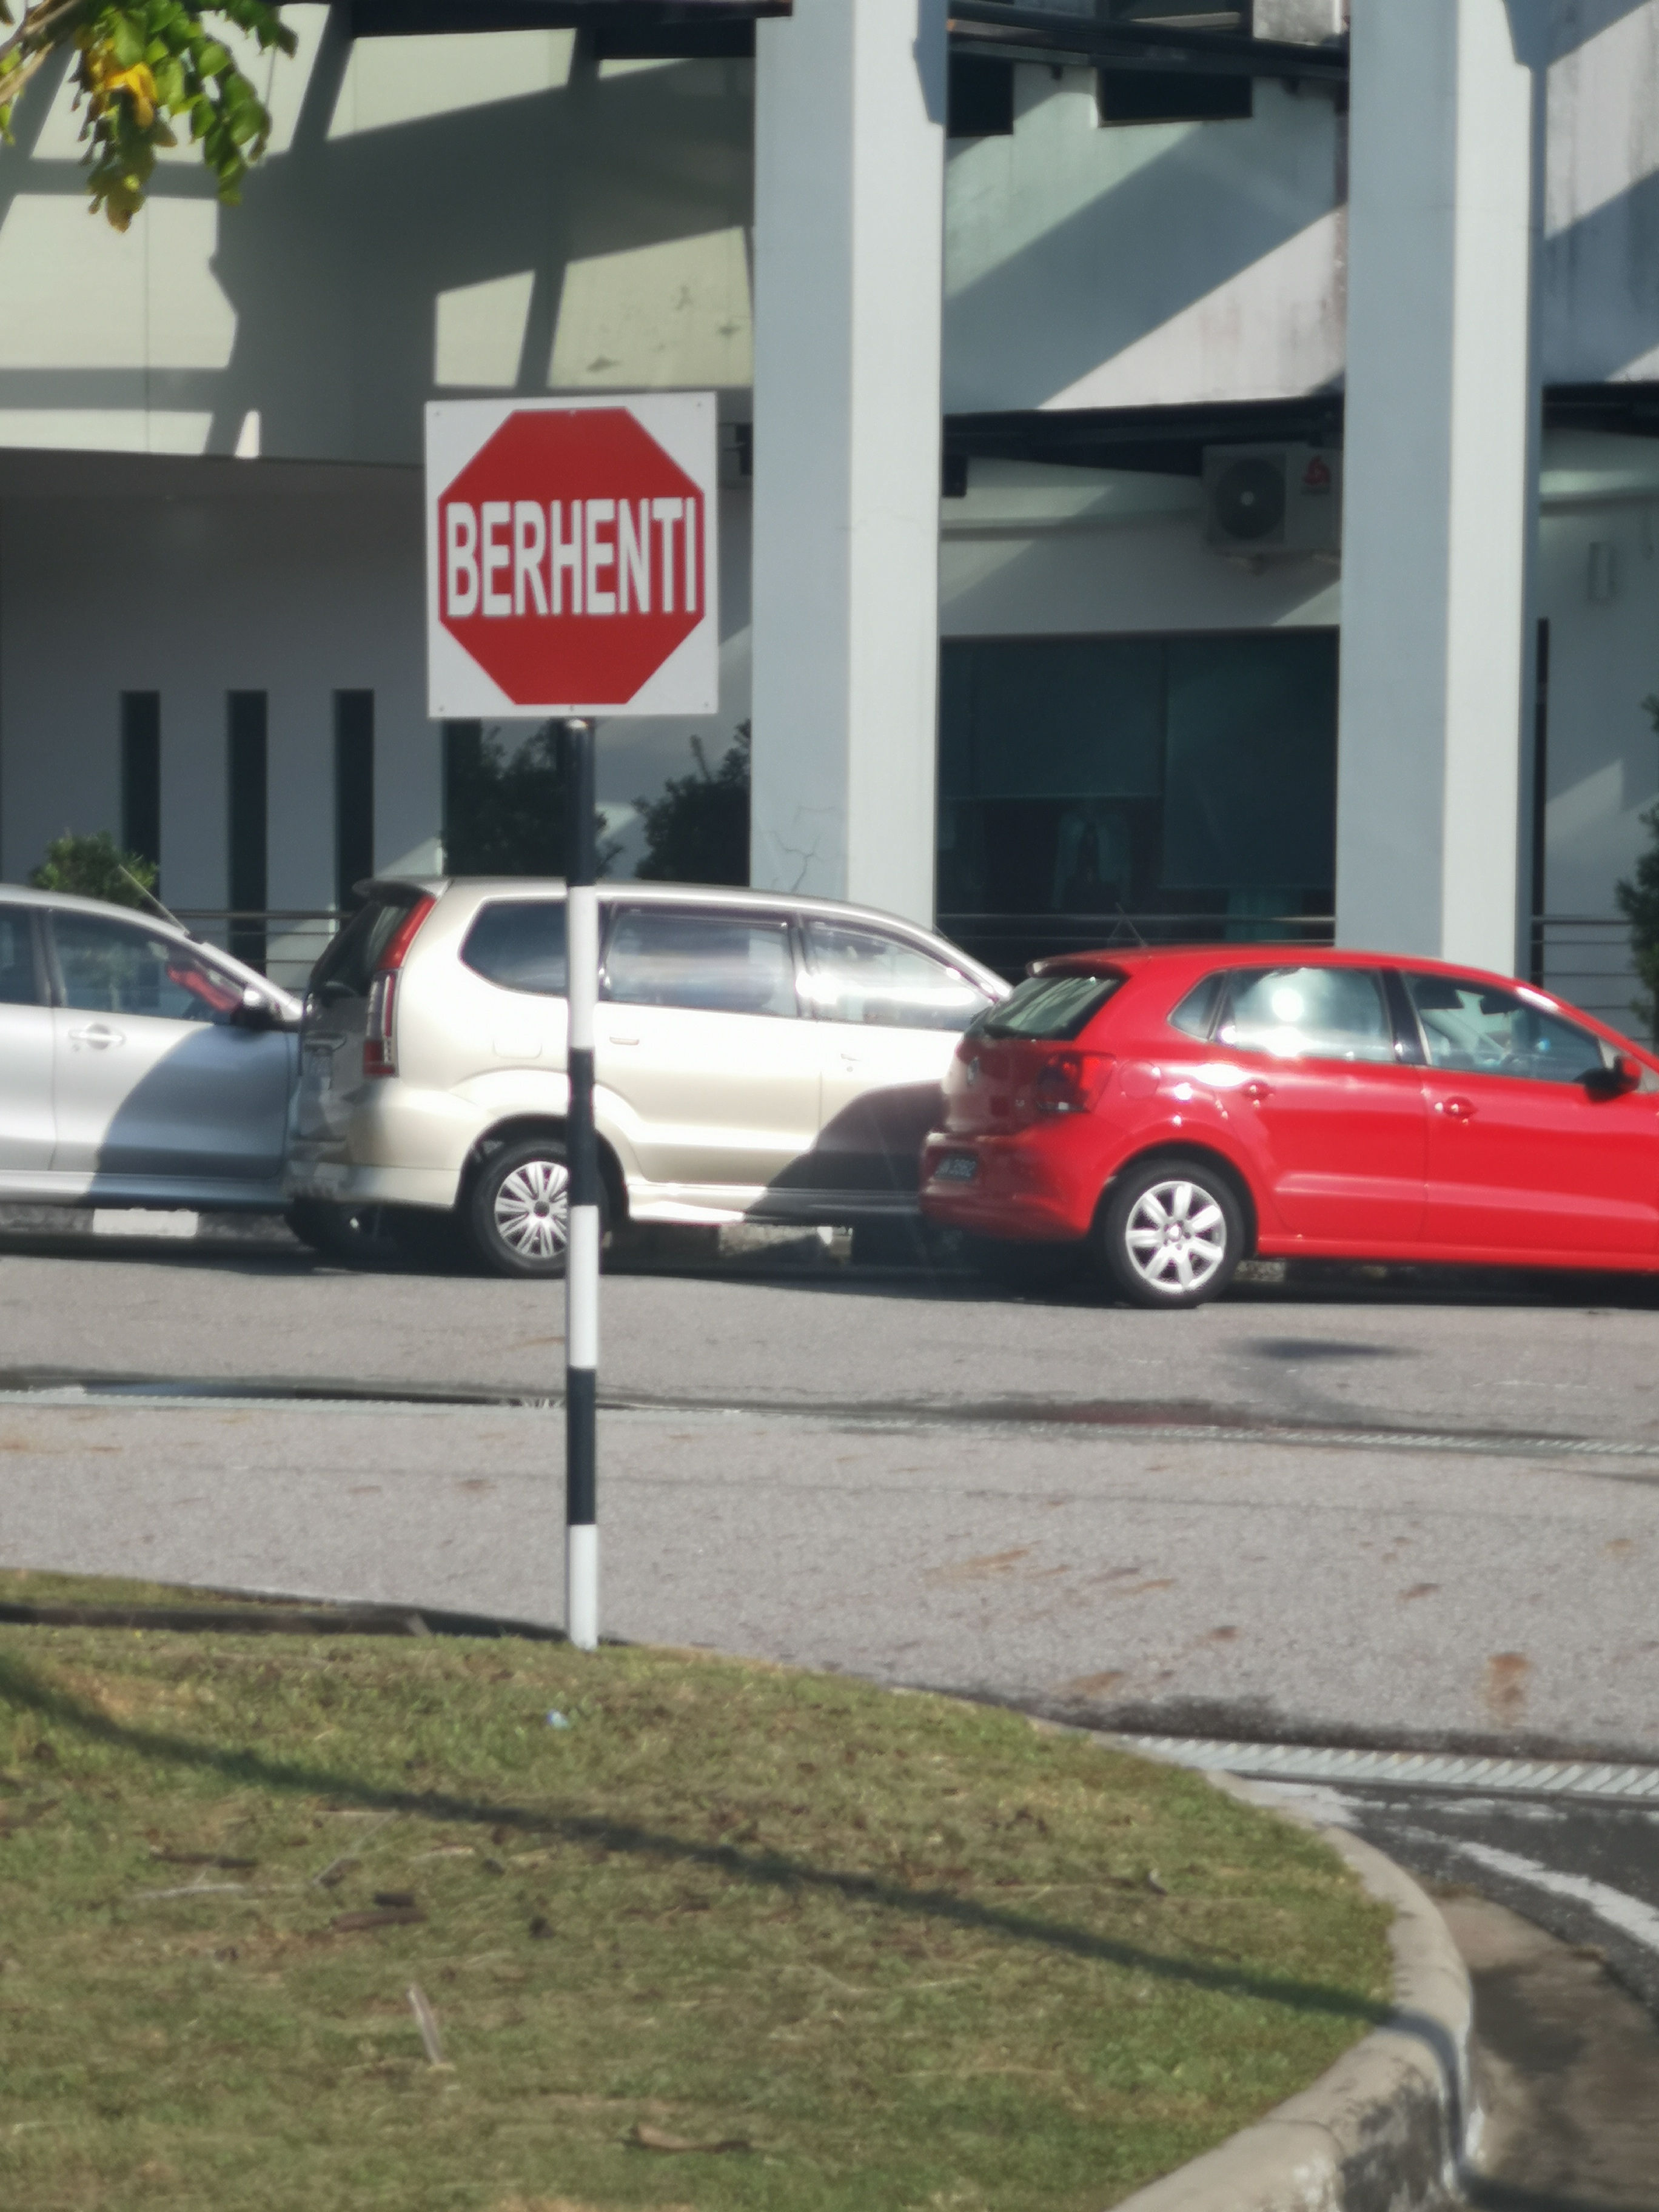stop: (410, 397, 748, 725)
